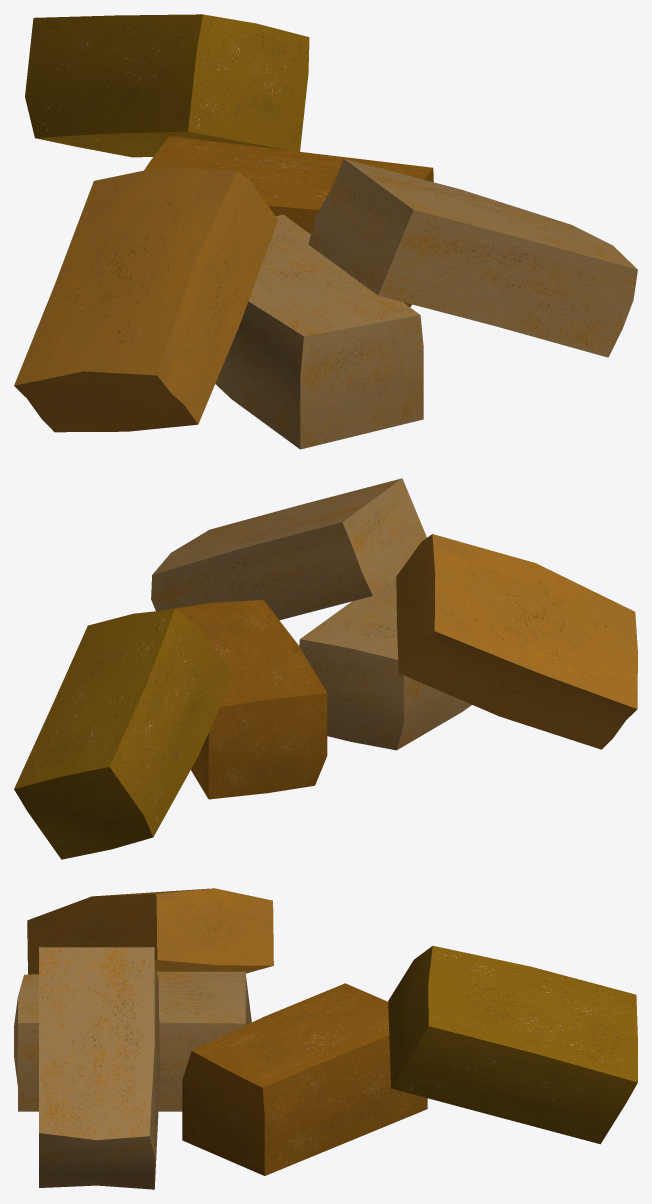
The model's file is Pile Of Bricks.fbx.
3 renders of one model, top to bottom at view 1: azimuth 30°, elevation 25°; view 2: azimuth 150°, elevation 25°; view 3: azimuth 270°, elevation 25°, orthographic. The views are drawn at different scales.
Visible parts, largest first — view 1: Box003, Box002, Box005, Box001, Box004; view 2: Box003, Box005, Box002, Box004, Box001; view 3: Box005, Box004, Box002, Box003, Box001.
Boxes of the visible parts, box(x1,y1,x2,y2) form: Box003: box(14, 166, 277, 432); Box002: box(308, 159, 637, 357); Box005: box(25, 14, 309, 157); Box001: box(215, 214, 423, 449); Box004: box(144, 136, 433, 307); Box003: box(396, 534, 637, 749); Box005: box(14, 609, 233, 859); Box002: box(151, 478, 426, 620); Box004: box(162, 600, 327, 799); Box001: box(299, 579, 471, 750); Box005: box(388, 946, 637, 1144); Box004: box(182, 983, 427, 1175); Box002: box(39, 947, 159, 1189); Box003: box(27, 888, 273, 974); Box001: box(14, 971, 251, 1111).
Size of the model in its own units: 19.35 by 7.28 by 22.1.
